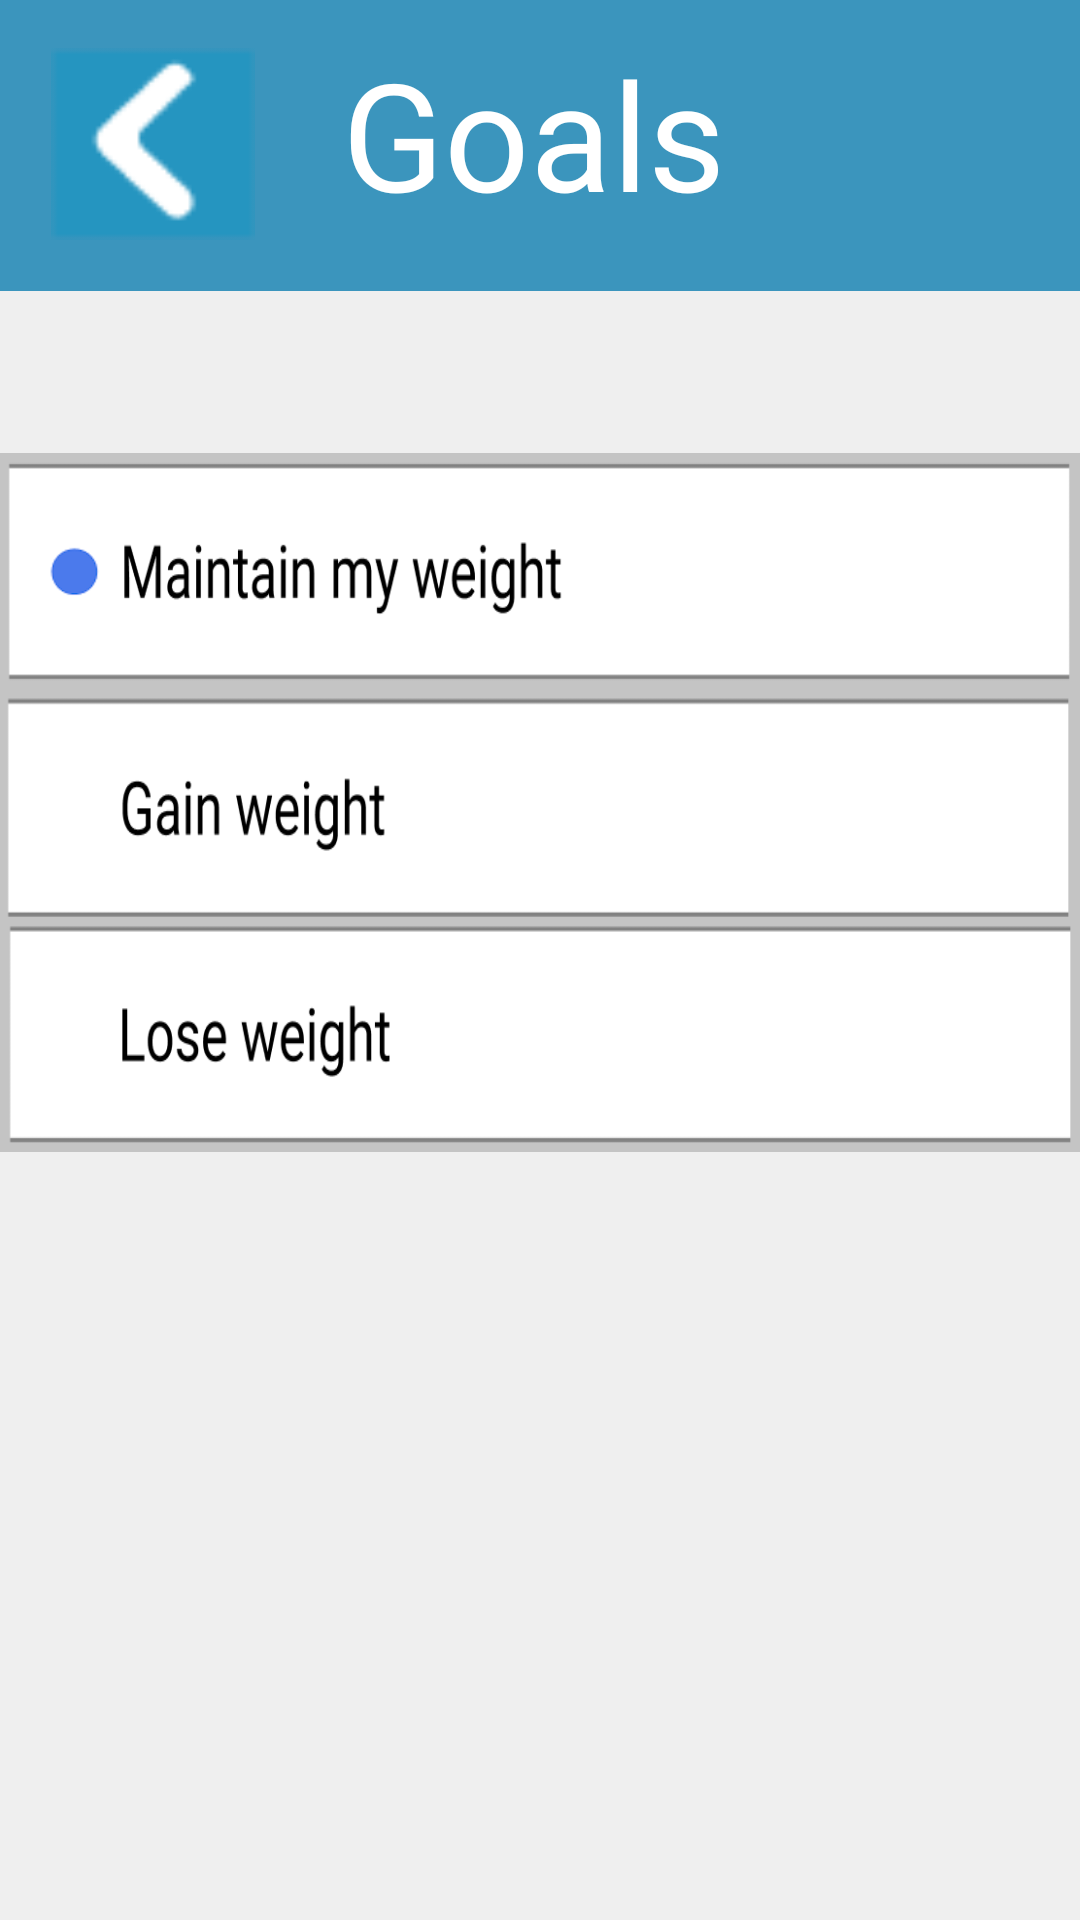

Icons on this 1080 x 1920 Android screen, each with the point to tap as [x,y]:
backarrow: [153,144]
